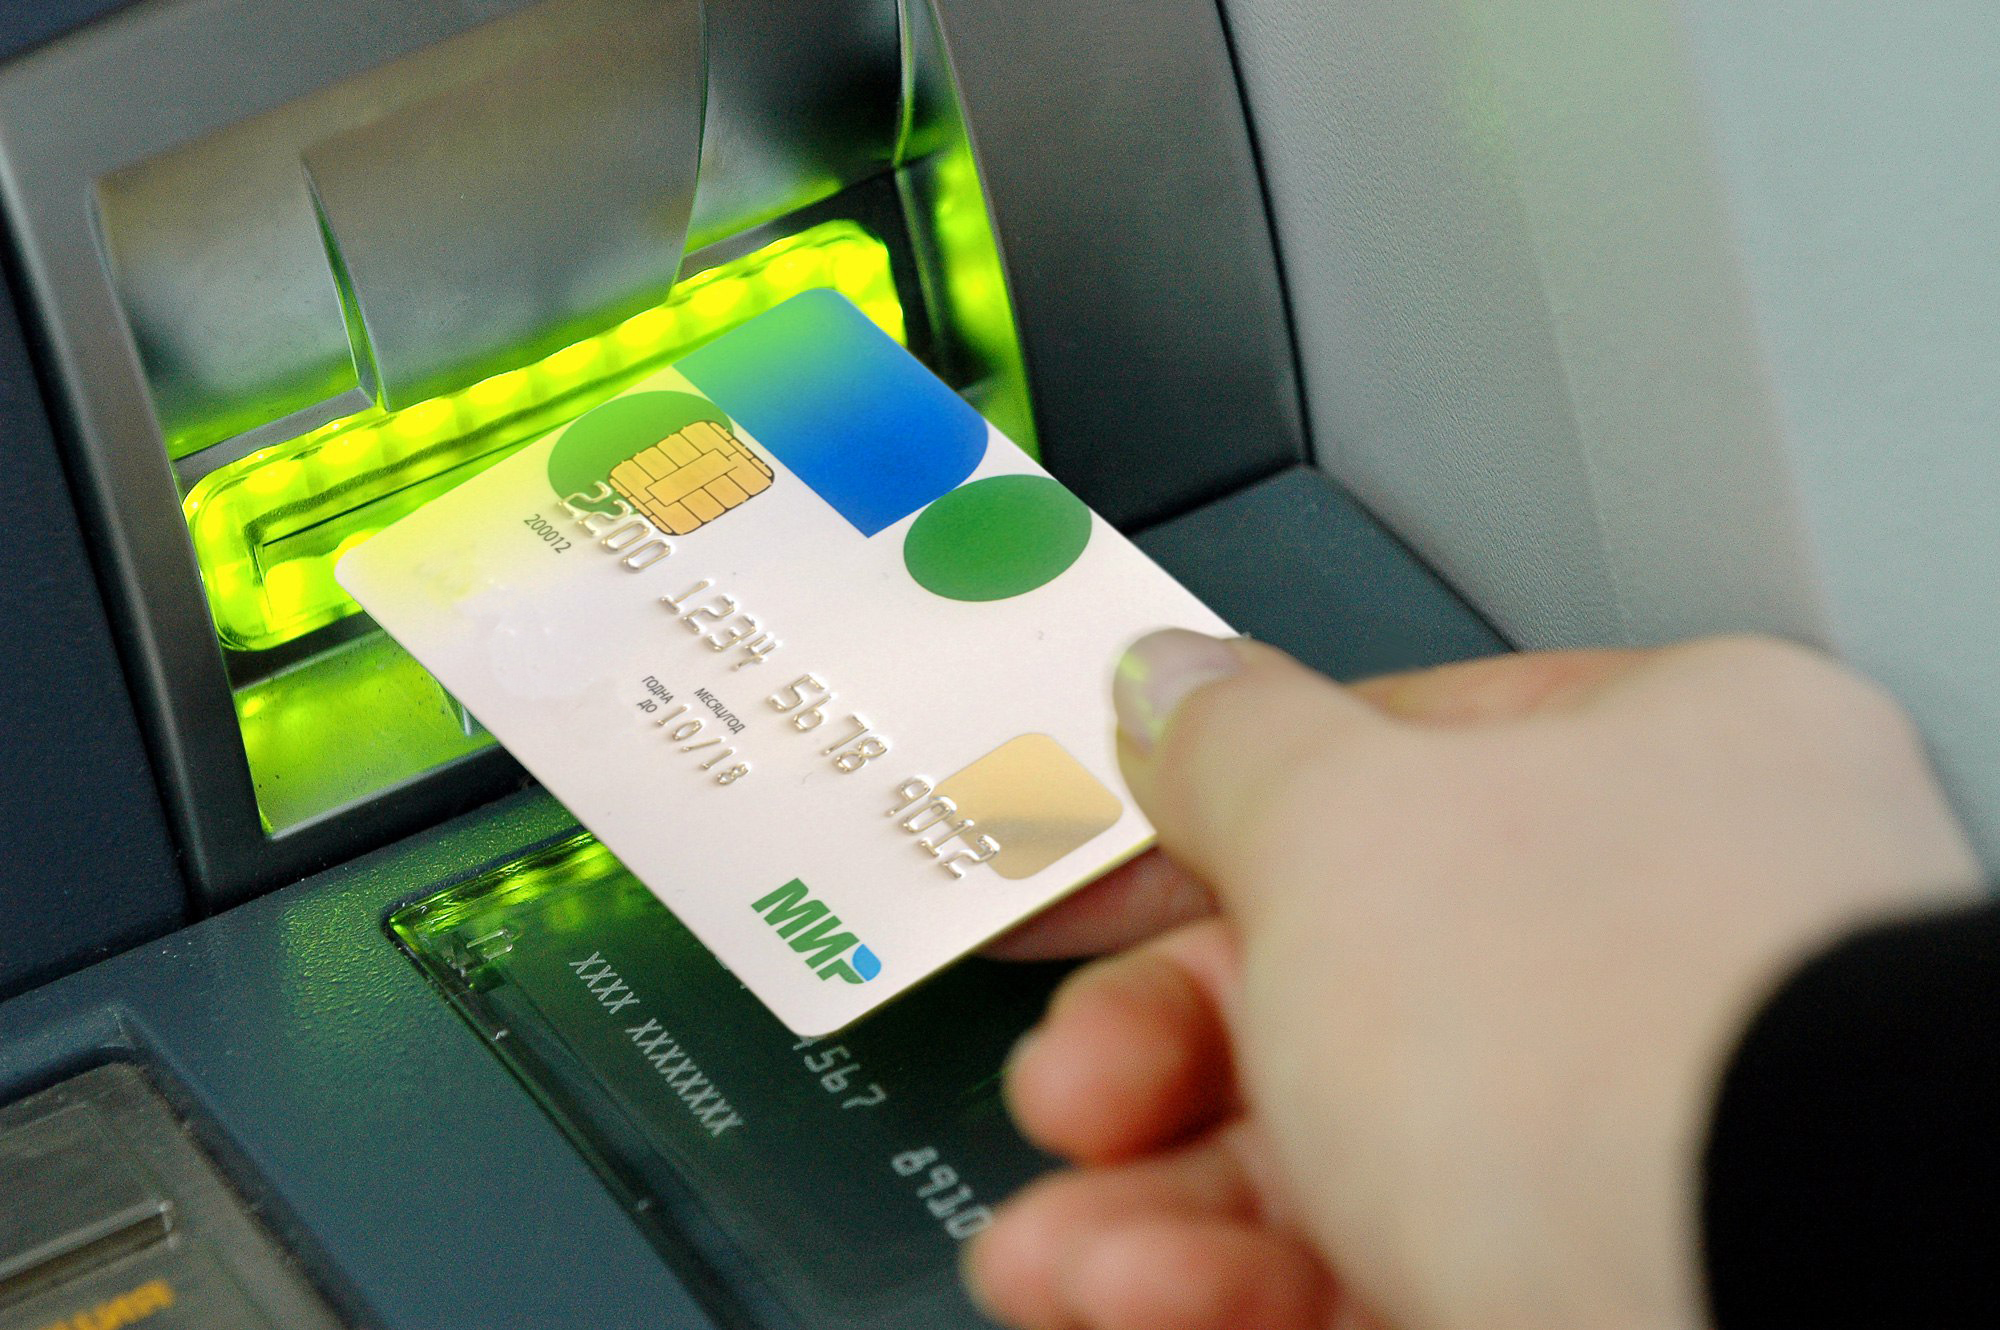card: (326, 286, 1263, 1038)
